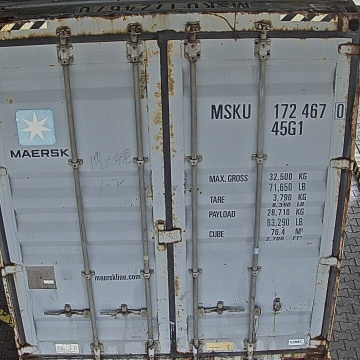serial_id: (211, 103, 345, 119)
